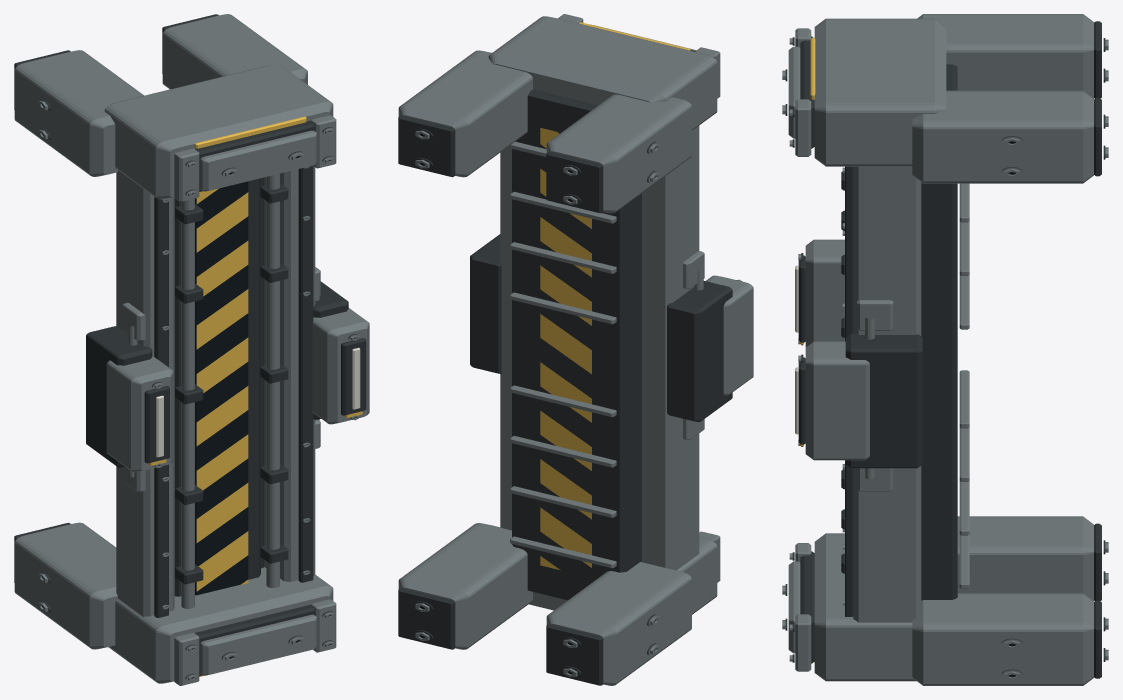
File: separator_1.glb
3 renders of one model, left to right at view 1: azimuth 30°, elevation 25°; view 2: azimuth 150°, elevation 25°; view 3: azimuth 270°, elevation 25°, orthographic. The views are drawn at different scales.
Parts seen in each view (by area): view 1: Load bearing frame and recessed channel, Reinforced end clamp blocks, Paired radial mounting feet, Yellow diagonal hazard markings, Left and right release housings, Twin guide rods and locking ties, Recessed fasteners; view 2: Load bearing frame and recessed channel, Paired radial mounting feet, Reinforced end clamp blocks, Left and right release housings, Yellow diagonal hazard markings, Twin guide rods and locking ties; view 3: Paired radial mounting feet, Load bearing frame and recessed channel, Reinforced end clamp blocks, Left and right release housings, Twin guide rods and locking ties.
Boxes of the visible parts, box(x1,y1,x2,y2) form: Load bearing frame and recessed channel: box(116, 165, 315, 617); Reinforced end clamp blocks: box(104, 64, 336, 685); Paired radial mounting feet: box(14, 14, 307, 649); Yellow diagonal hazard markings: box(195, 181, 248, 595); Left and right release housings: box(86, 267, 369, 491); Twin guide rods and locking ties: box(175, 173, 288, 608); Recessed fasteners: box(162, 151, 310, 661); Load bearing frame and recessed channel: box(500, 89, 699, 600); Paired radial mounting feet: box(398, 50, 691, 685); Reinforced end clamp blocks: box(488, 14, 720, 614); Left and right release housings: box(470, 234, 753, 440); Yellow diagonal hazard markings: box(540, 128, 591, 570); Twin guide rods and locking ties: box(510, 141, 616, 568); Paired radial mounting feet: box(912, 14, 1108, 685); Load bearing frame and recessed channel: box(845, 64, 957, 622); Reinforced end clamp blocks: box(788, 18, 946, 681); Left and right release housings: box(795, 239, 922, 491); Twin guide rods and locking ties: box(841, 171, 969, 588).
Bounding box in the file's own units: 0.645 × 1.4 × 0.718.
